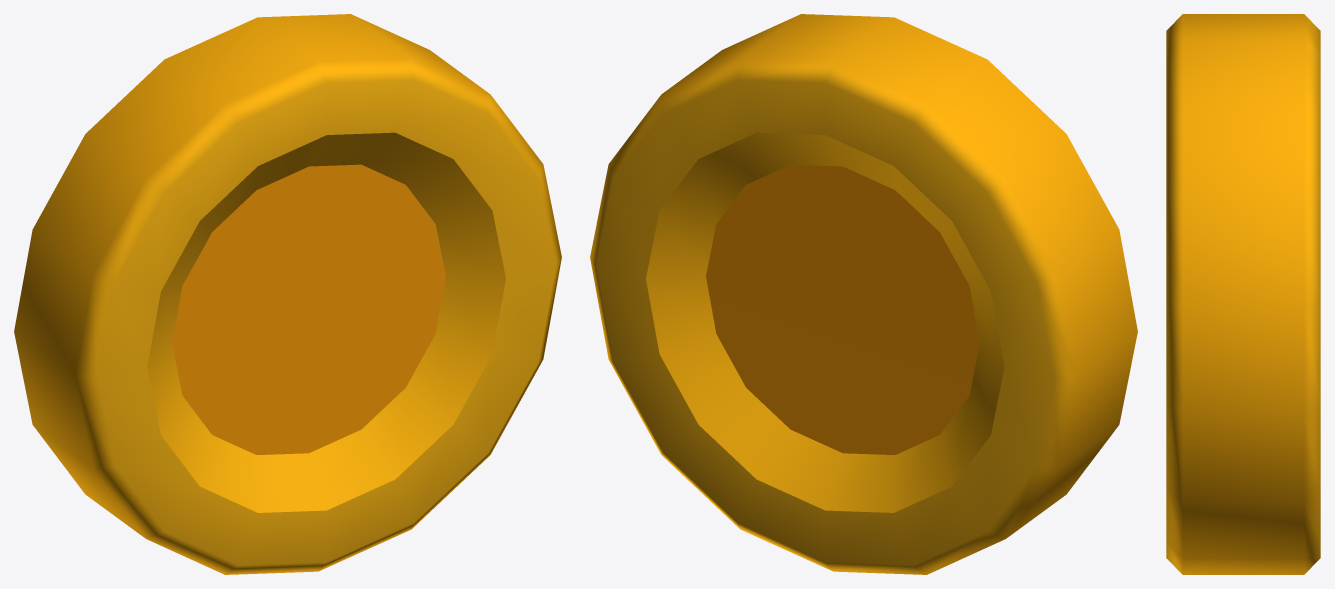
The model's file is coin_001.fbx.
3 renders of one model, left to right at view 1: azimuth 30°, elevation 25°; view 2: azimuth 150°, elevation 25°; view 3: azimuth 270°, elevation 25°, orthographic.
Parts seen in each view (by area): view 1: coin_001; view 2: coin_001; view 3: coin_001.
Boxes of the visible parts, x1=… form: coin_001: x1=14, y1=14, x2=561, y2=574; coin_001: x1=590, y1=14, x2=1137, y2=574; coin_001: x1=1166, y1=14, x2=1320, y2=574.
Size of the model in its own units: 93.46 by 25.73 by 93.46.
